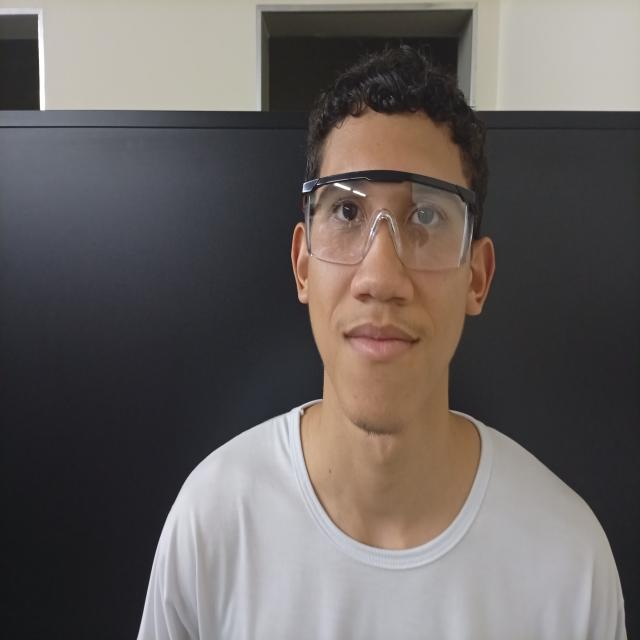oculos-epi: (302, 170, 475, 270)
